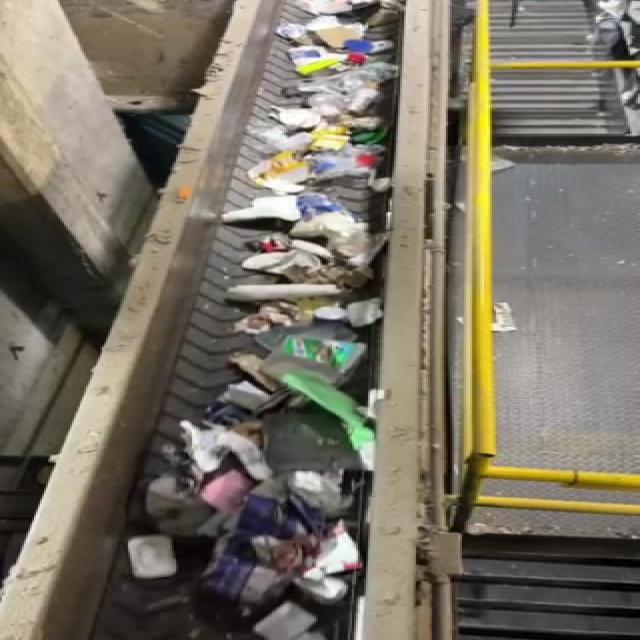hdpe: (286, 563, 352, 613)
paper: (266, 466, 356, 524)
pp: (256, 371, 396, 473), (122, 528, 184, 594)
